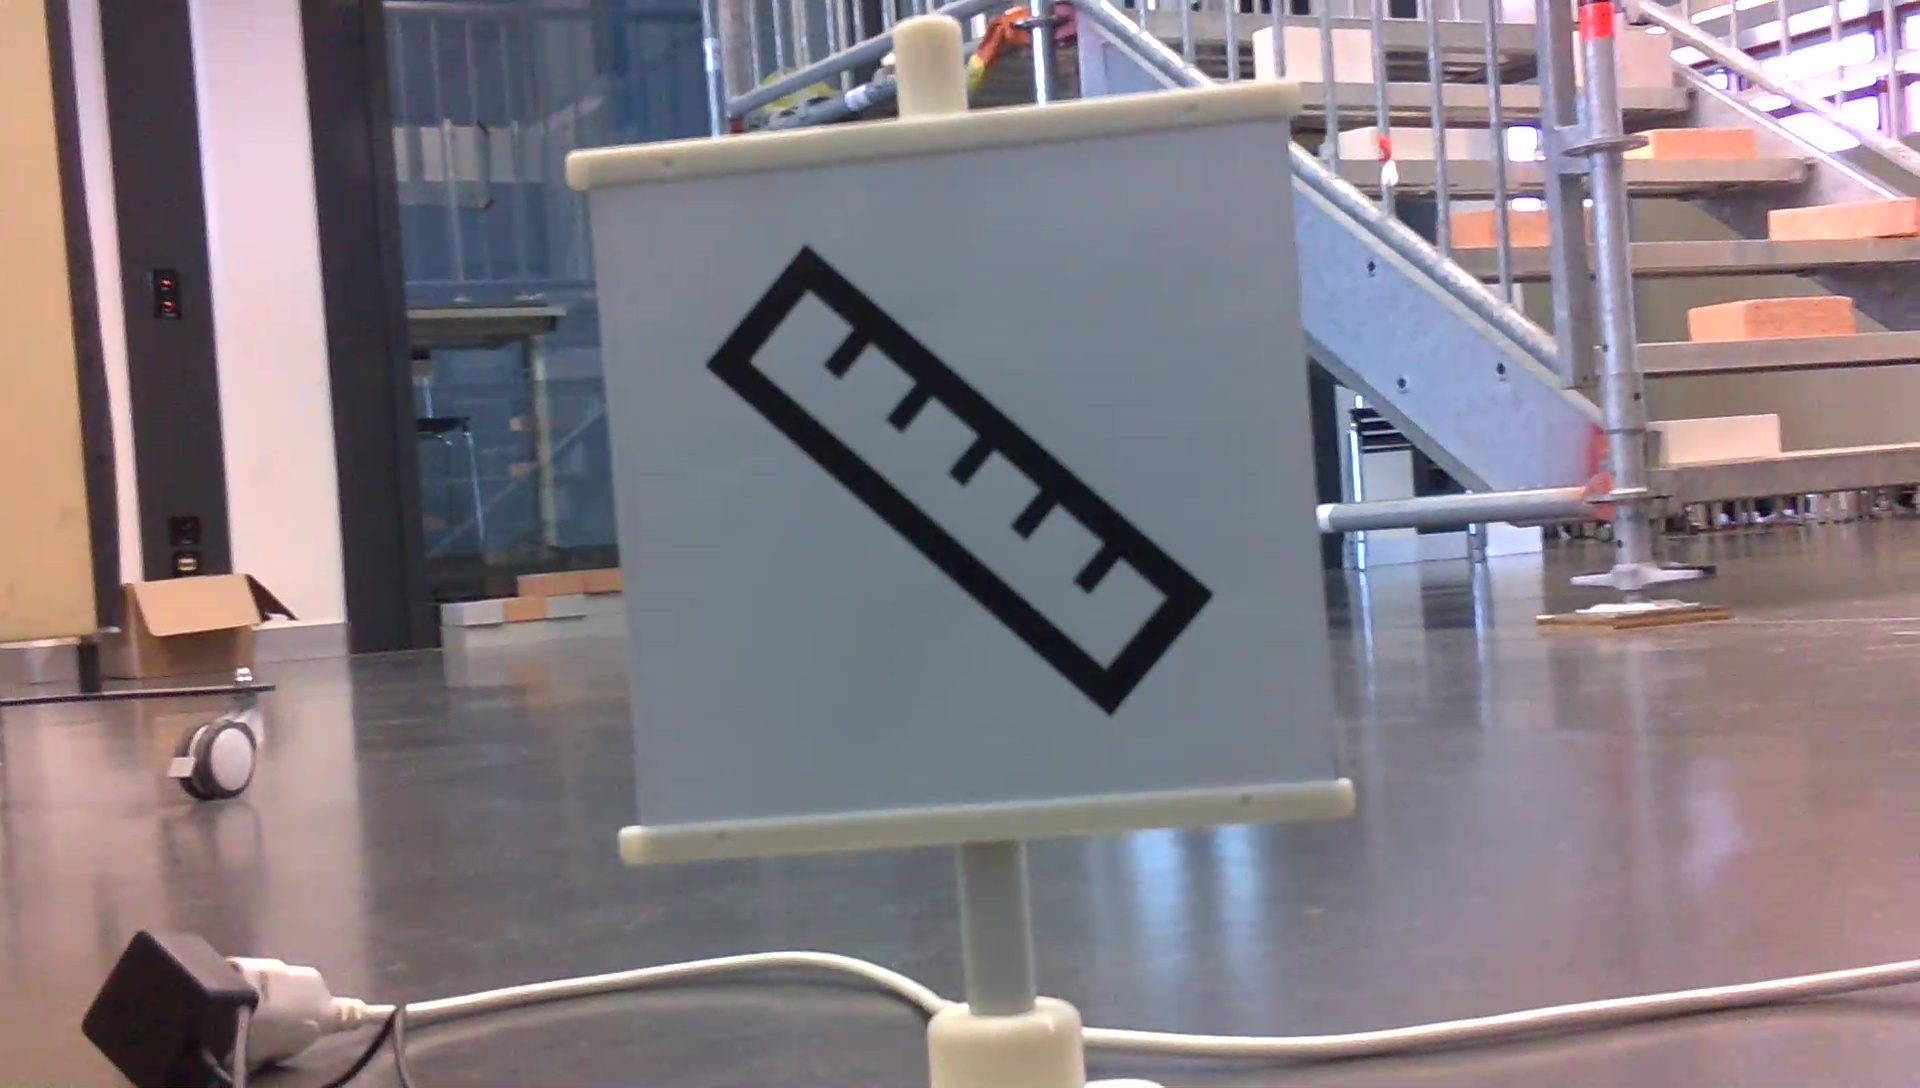brick: (1677, 291, 1862, 349), (1654, 410, 1776, 471), (1776, 212, 1920, 243), (1636, 128, 1758, 162)
ruler: (703, 227, 1207, 732)
